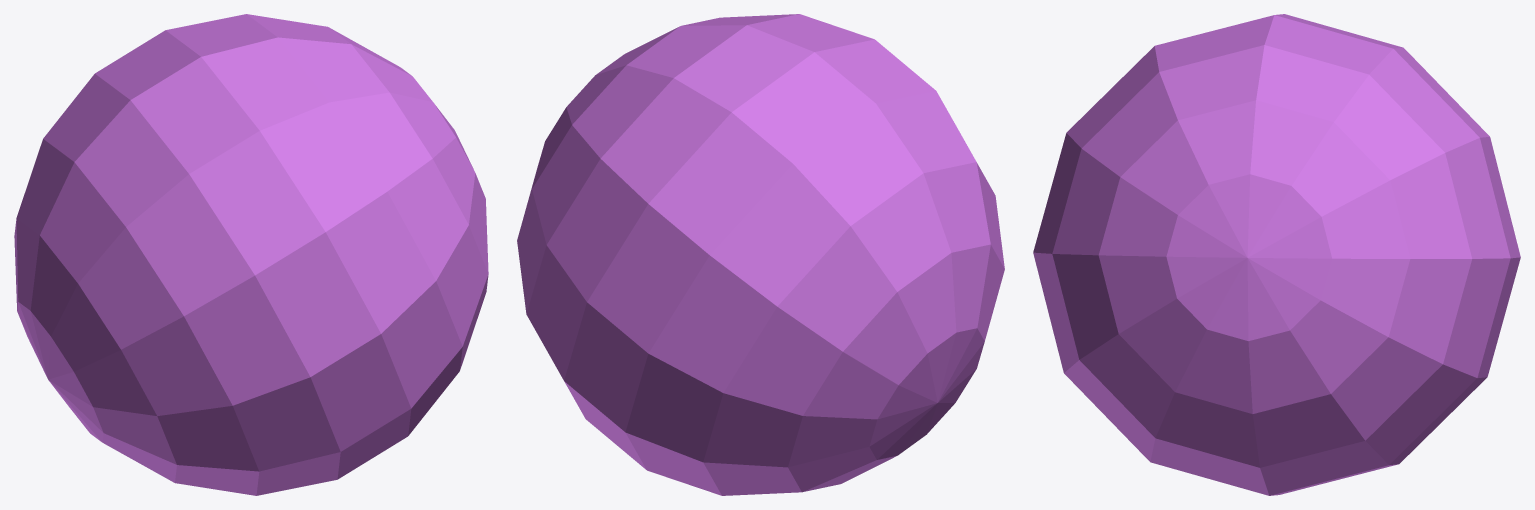
Rendered from nut.fbx.
The picture shows the model from 3 angles, left to right: view 1: azimuth 30°, elevation 25°; view 2: azimuth 150°, elevation 25°; view 3: azimuth 270°, elevation 25°; orthographic projection.
Visible parts, largest first — view 1: Untitled_31_BlocksPaper_geo_190; view 2: Untitled_31_BlocksPaper_geo_190; view 3: Untitled_31_BlocksPaper_geo_190.
Boxes of the visible parts, x1,y1,x2,y2 form: Untitled_31_BlocksPaper_geo_190: (14,14,488,495); Untitled_31_BlocksPaper_geo_190: (517,14,1004,495); Untitled_31_BlocksPaper_geo_190: (1033,14,1520,495).
Bounding box in the file's own units: 0.0297 × 0.0298 × 0.03.
